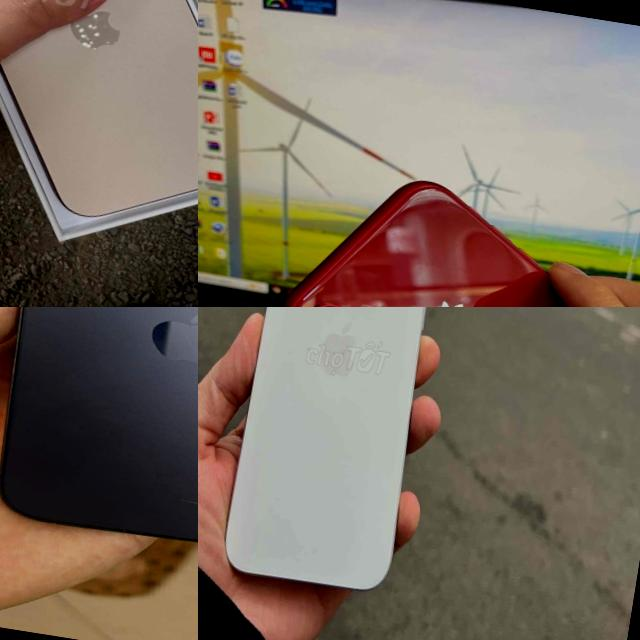gen_15: (0, 307, 198, 570)
gen_16: (210, 307, 460, 601), (0, 0, 198, 245)
gen_x_xs: (284, 181, 567, 307)
